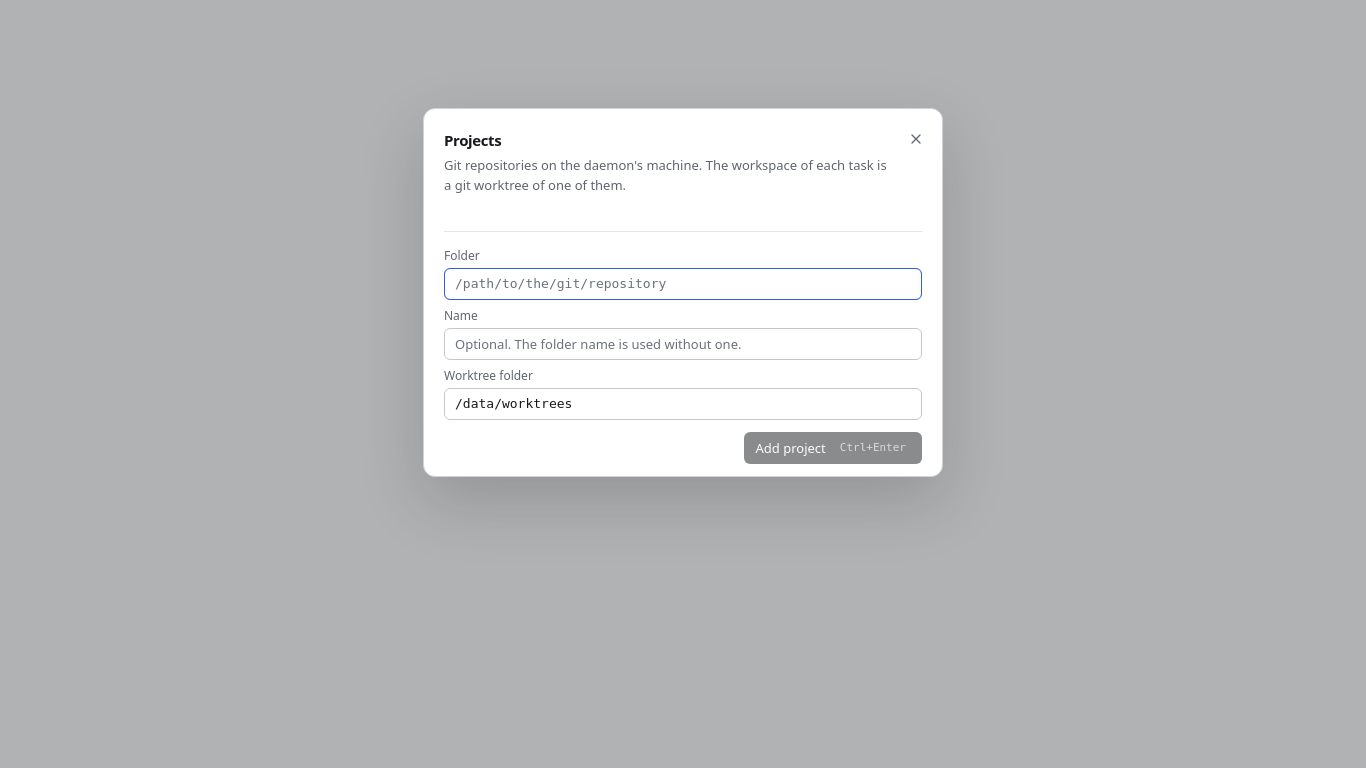
RepoPanel worktree folder › refuses a relative folder and adds nothing
Type "/work/web" into the field named "Project folder" at (683, 284), box x1=444 y1=268 x2=922 y2=300
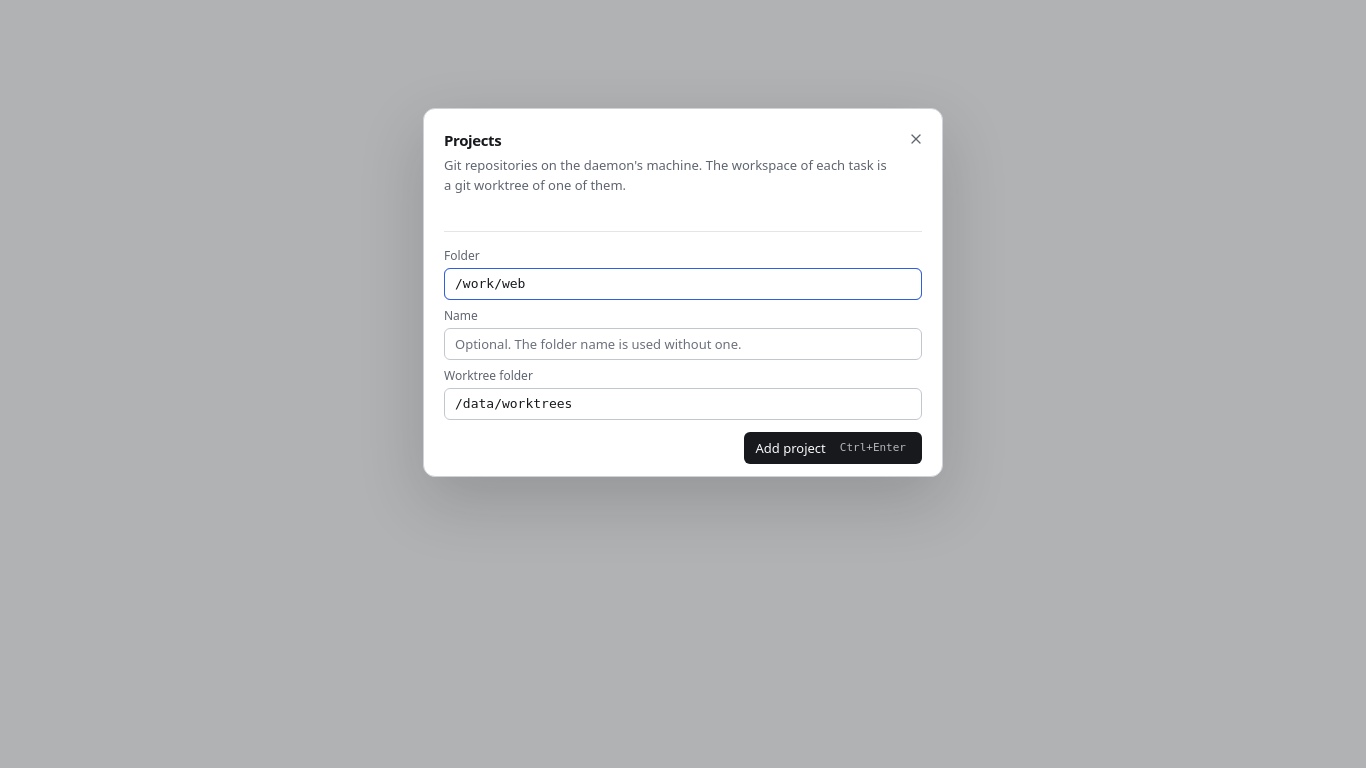
Replace the text in the field named "worktree folder" with "trees" at (683, 404), box x1=444 y1=388 x2=922 y2=420
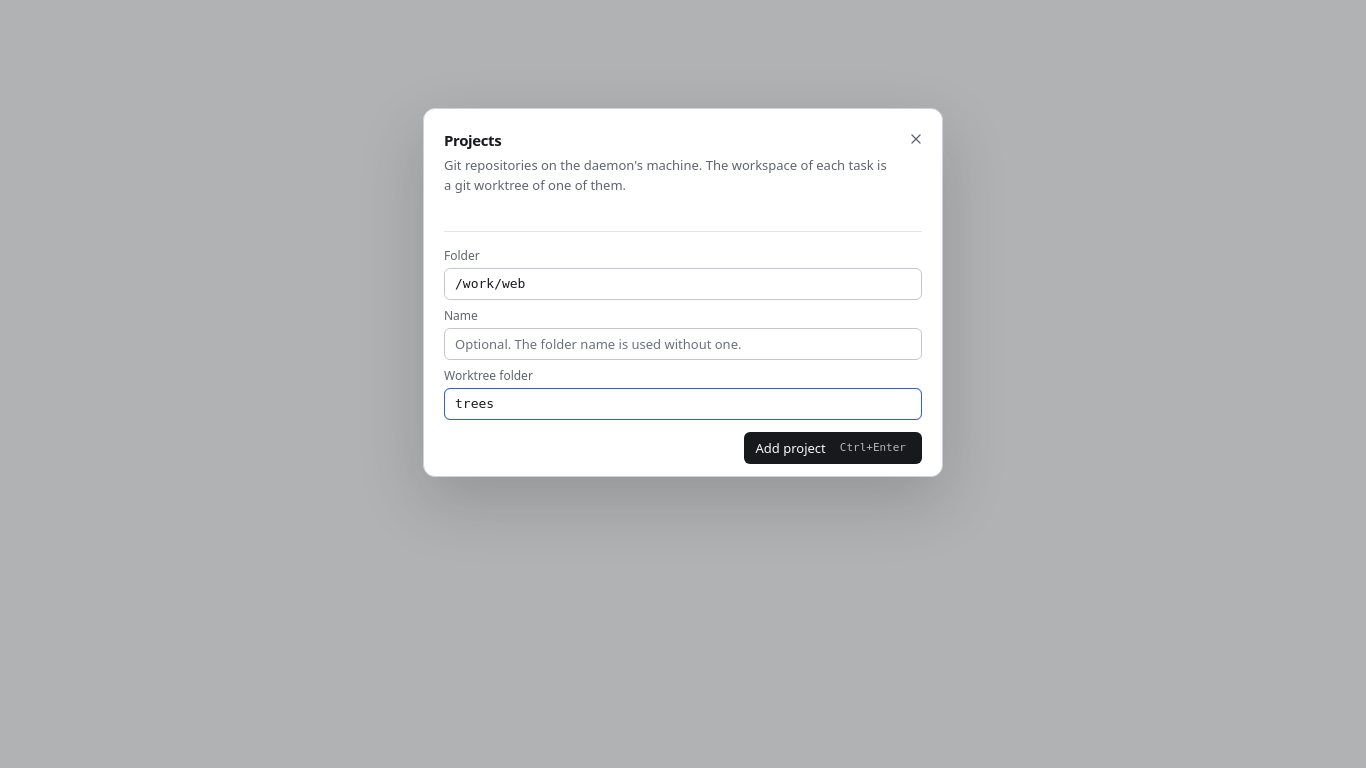
Click the button "Add project Ctrl+Enter" at (833, 448), box x1=744 y1=432 x2=922 y2=464
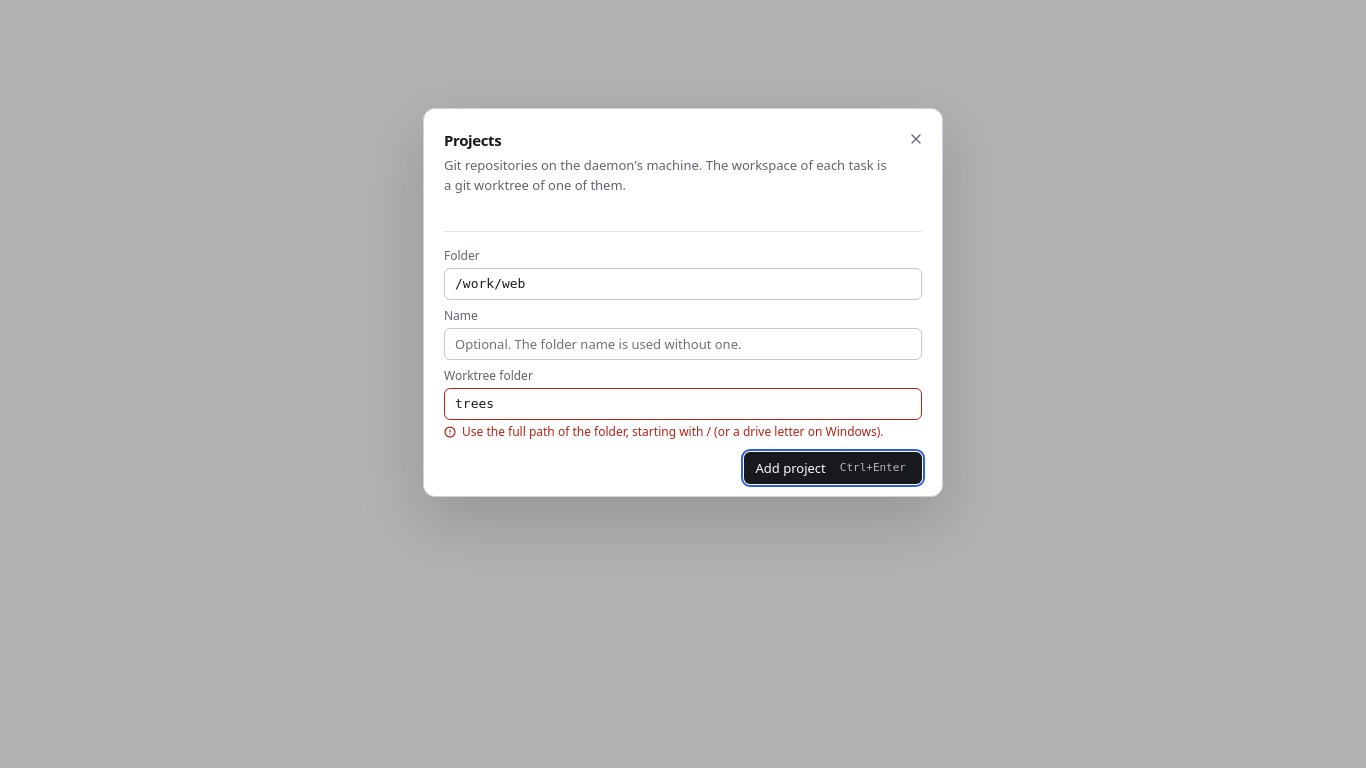
Check: the message shows "full path", box x1=462 y1=422 x2=884 y2=440
